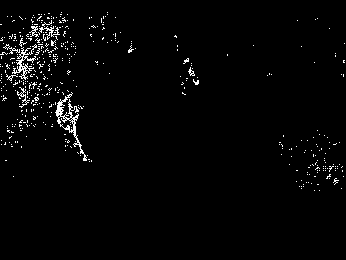person: (56, 95, 93, 162)
